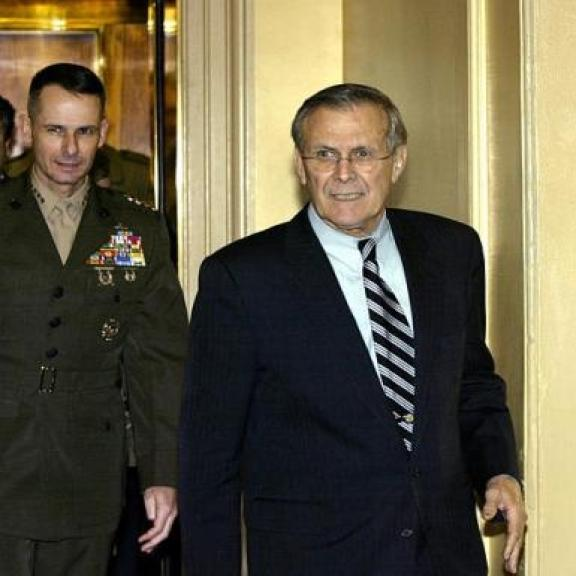face: (296, 108, 411, 228), (25, 75, 111, 189)
